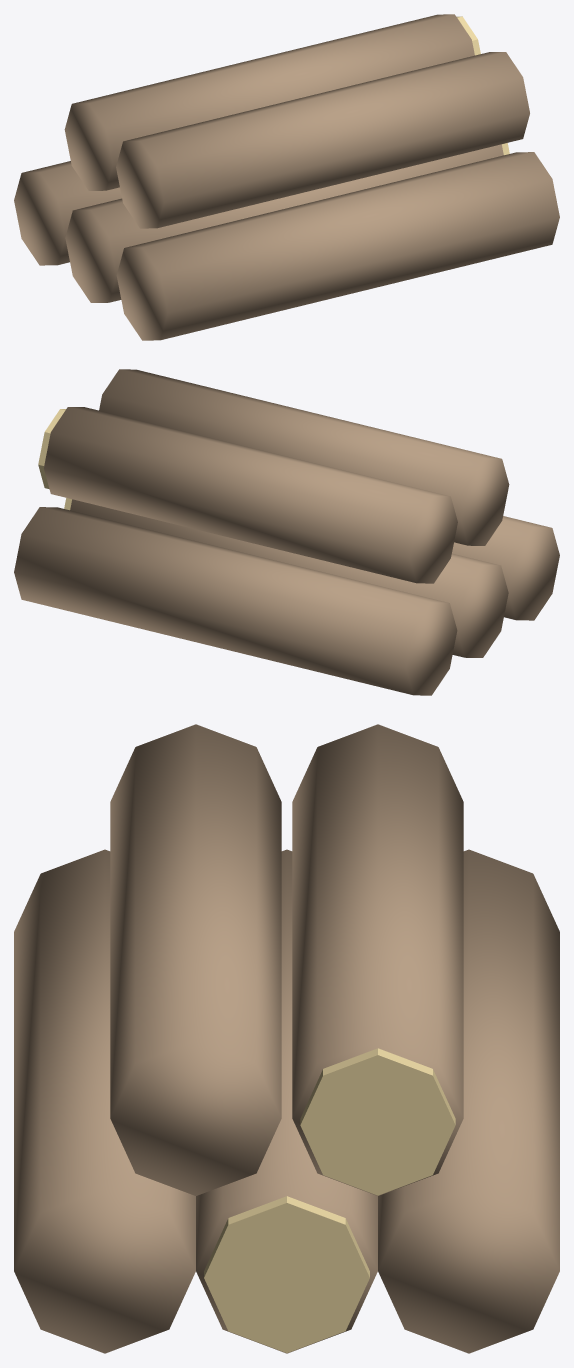
File: log-pile.glb
3 renders of one model, top to bottom at view 1: azimuth 30°, elevation 25°; view 2: azimuth 150°, elevation 25°; view 3: azimuth 270°, elevation 25°, orthographic. The views are drawn at different scales.
Parts seen in each view (by area): view 1: log-pile_bark; view 2: log-pile_bark, log-pile_cut; view 3: log-pile_bark, log-pile_cut.
Part boxes in pixels (<box>): log-pile_bark: <box>14,14,559,340</box>; log-pile_bark: <box>14,369,559,695</box>; log-pile_cut: <box>38,409,71,510</box>; log-pile_bark: <box>14,724,559,1353</box>; log-pile_cut: <box>204,1048,455,1352</box>.
Size of the model in its own units: 0.51 by 0.2133 by 0.34.
